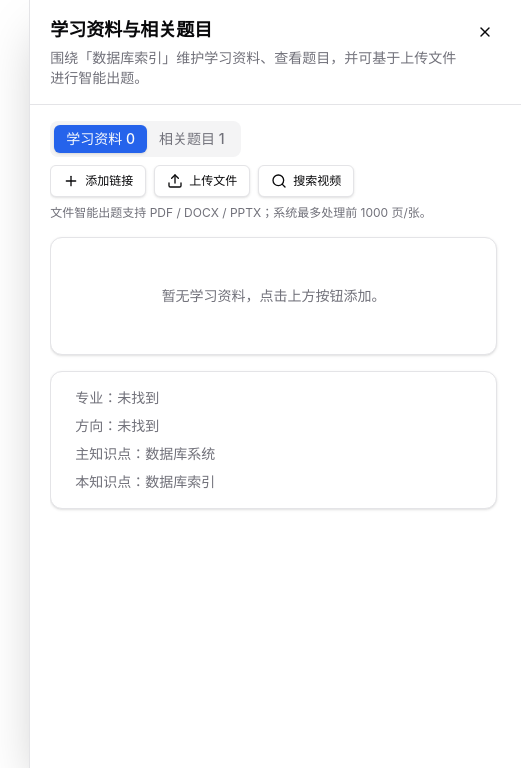
Test case: RelatedResourcesDialog › renders related question cards inside the questions tab
Click the tab "相关题目 1". click: (192,139)
box: [147,125,236,153]
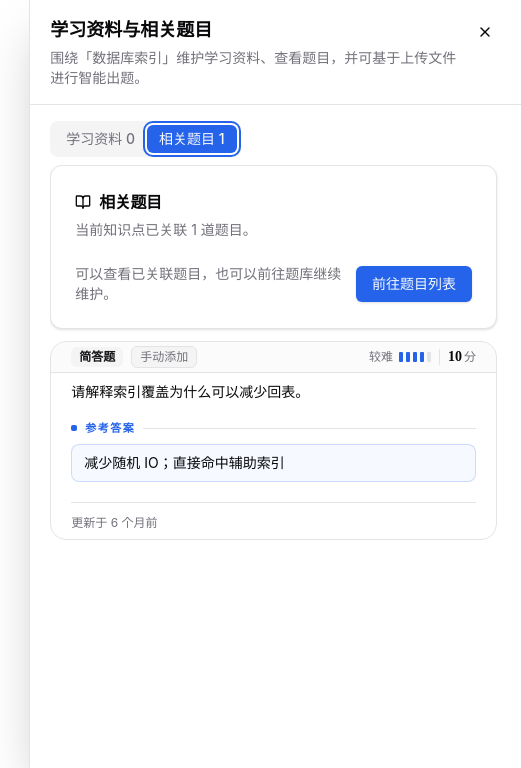
Check: the text "请解释索引覆盖为什么可以减少回表。" is shown, box [71,383,309,400]
Check: the text "减少随机 IO；直接命中辅助索引" is shown, box [84,454,285,471]
